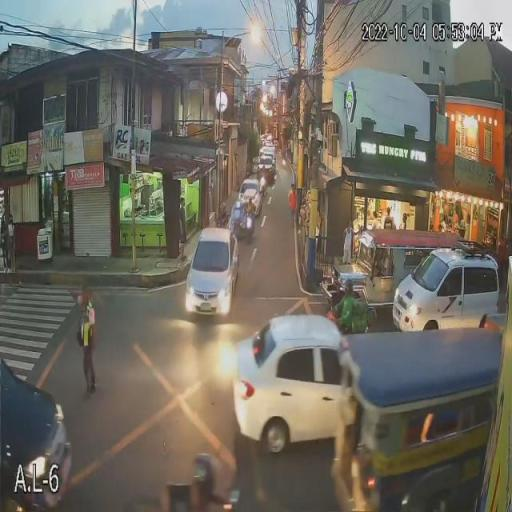helmet: (189, 453, 221, 490), (337, 276, 358, 296)
rider: (336, 284, 358, 329)
